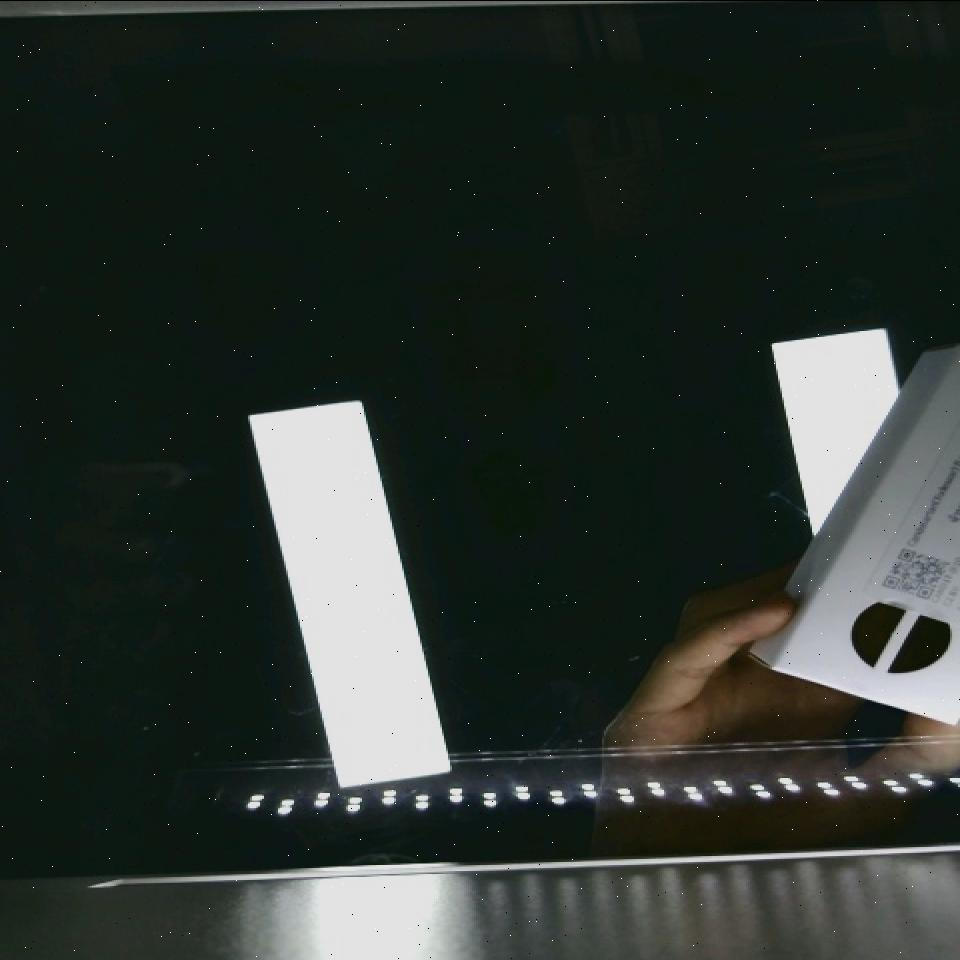medicine_box: (772, 353, 957, 723)
qr_code: (860, 529, 958, 617)
